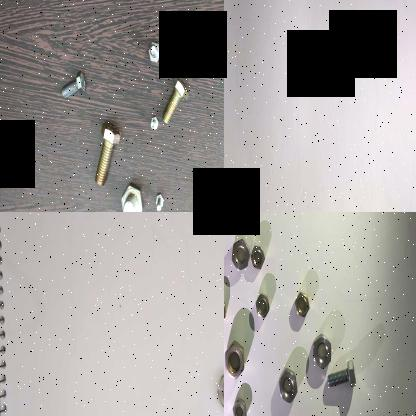Bolts: (87, 118, 123, 191), (51, 65, 93, 107), (160, 72, 190, 128), (116, 169, 146, 212), (323, 356, 356, 392), (151, 191, 167, 212)
NUTS: (308, 330, 332, 372), (224, 336, 245, 380), (278, 366, 298, 404), (229, 238, 250, 274), (253, 289, 271, 322), (249, 240, 266, 272), (214, 364, 224, 416), (294, 291, 310, 319), (231, 396, 247, 416), (224, 294, 228, 322)
